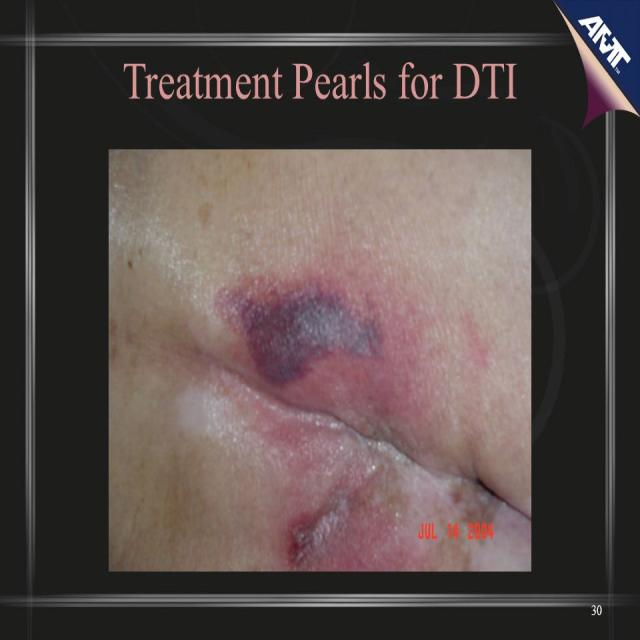DTI: (215, 286, 383, 387), (284, 487, 356, 569)
